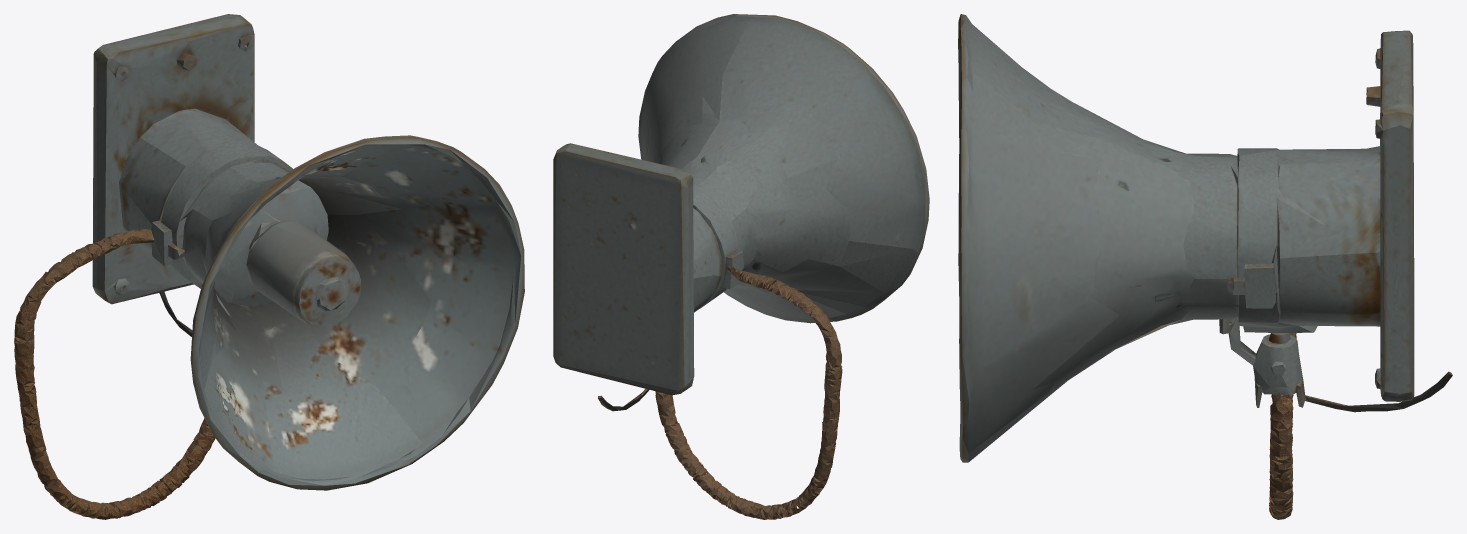
Rendered from altoparlante.glb.
3 views of the same model, side by side, from view 1: azimuth 30°, elevation 25°; view 2: azimuth 150°, elevation 25°; view 3: azimuth 270°, elevation 25° (orthographic). The views are drawn at different scales.
Size of the model in its own units: 1.64 by 1.9 by 1.61.
Materials: 1 (1 with a texture image).
